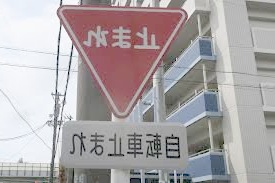Regulatory_sign_triangle: (53, 2, 194, 122)
